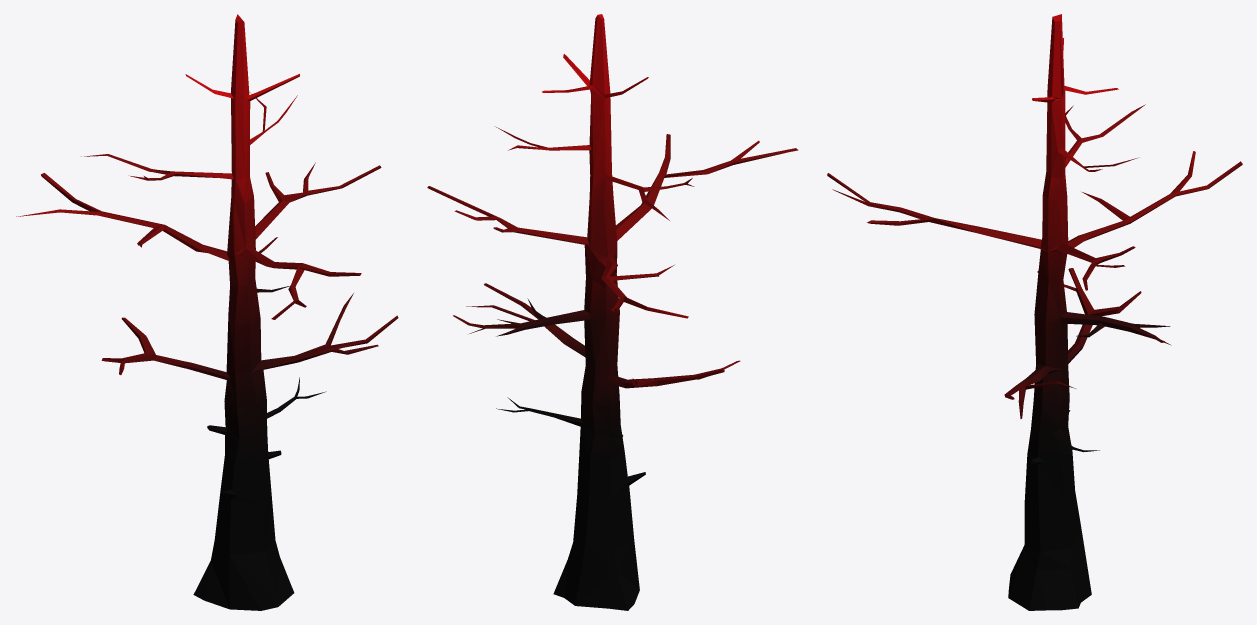
File: This.fbx
3 views of the same model, side by side, from view 1: azimuth 30°, elevation 25°; view 2: azimuth 150°, elevation 25°; view 3: azimuth 270°, elevation 25° (orthographic).
Visible parts, largest first — view 1: Tree_Base; view 2: Tree_Base; view 3: Tree_Base.
Part boxes in pixels (x1,y1,x2,y2): Tree_Base: [16, 14, 398, 610]; Tree_Base: [427, 14, 798, 610]; Tree_Base: [827, 14, 1242, 610].
Size of the model in its own units: 173 by 306 by 199.
